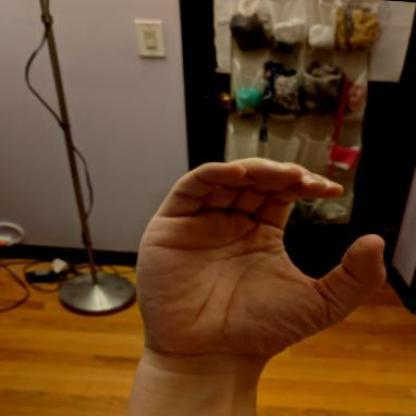C: (121, 144, 397, 377)
